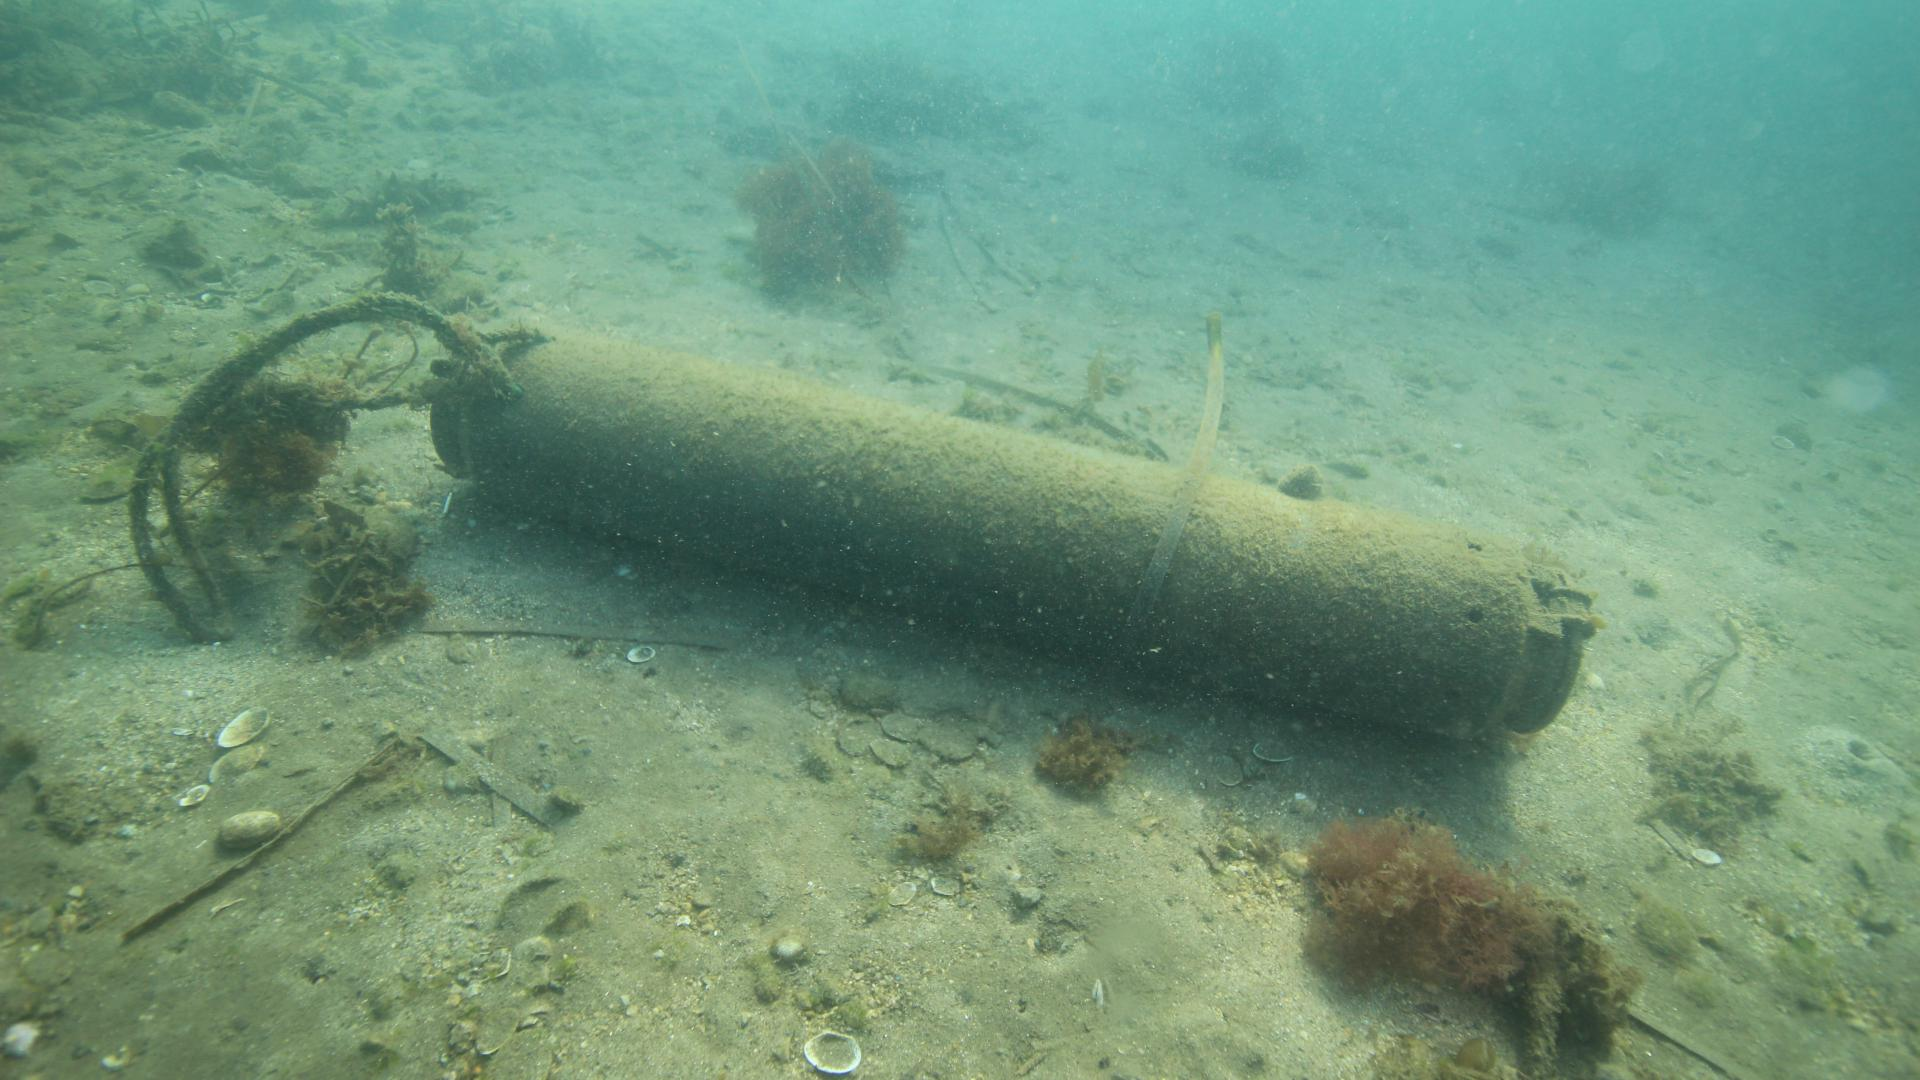bundle of ropes: (125, 291, 549, 647)
eel fish trap: (429, 326, 1602, 744)
